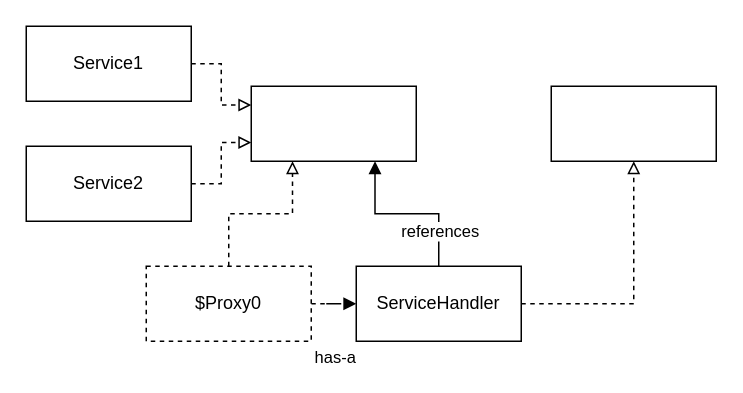
The diagram is 743 pixels wide and 393 high, and some of its shapes have lost their labels. The shapes that lost their labels are listed below. From the top down, each one's centre as x and y in pixels, then its label:
point (333, 123): <<interface>> IService
point (633, 123): <<interface>> InvocationHandler
